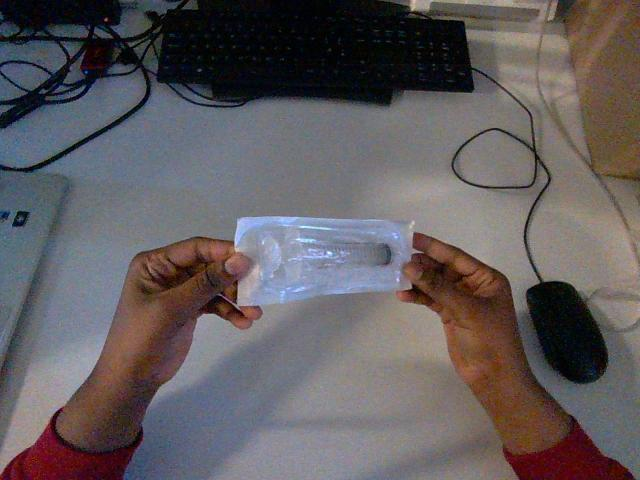syringe: (235, 217, 413, 304)
